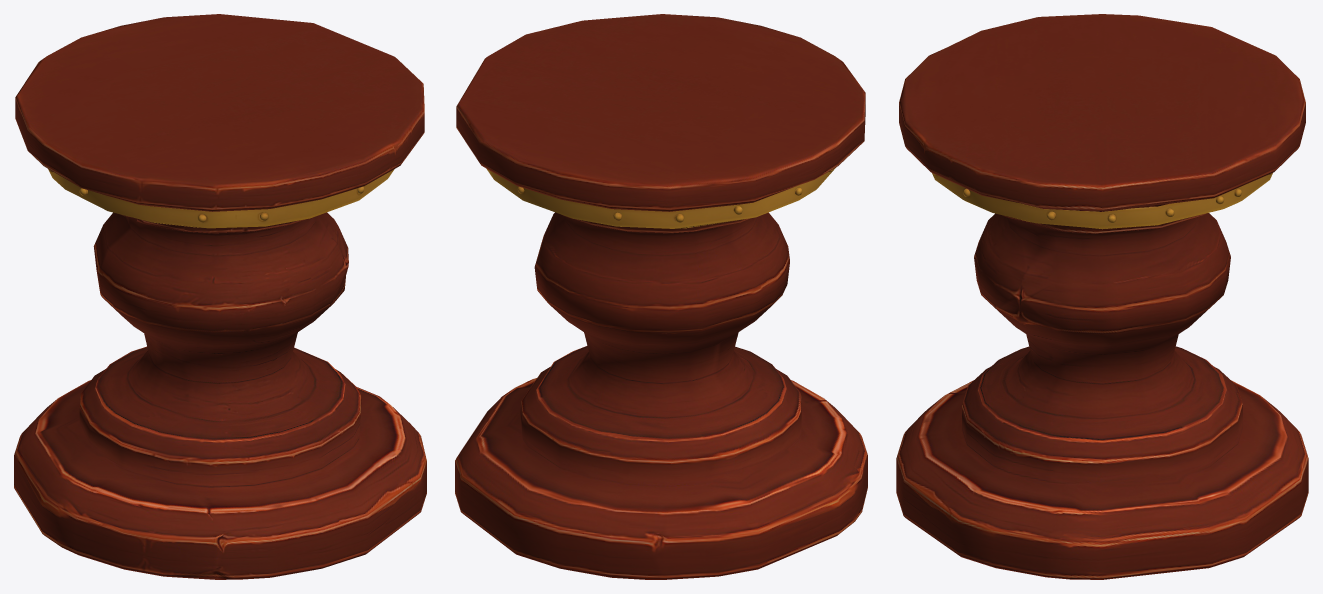
The model's file is bowl_stand.glb.
The picture shows the model from 3 angles, left to right: view 1: azimuth 30°, elevation 25°; view 2: azimuth 150°, elevation 25°; view 3: azimuth 270°, elevation 25°; orthographic projection.
Parts seen in each view (by area): view 1: tripo_node_fe28c26f-91bb-4a17-ac00-e8c8f666ef9b; view 2: tripo_node_fe28c26f-91bb-4a17-ac00-e8c8f666ef9b; view 3: tripo_node_fe28c26f-91bb-4a17-ac00-e8c8f666ef9b.
Part boxes in pixels (x1,y1,x2,y2): tripo_node_fe28c26f-91bb-4a17-ac00-e8c8f666ef9b: (14,14,426,579); tripo_node_fe28c26f-91bb-4a17-ac00-e8c8f666ef9b: (455,14,867,579); tripo_node_fe28c26f-91bb-4a17-ac00-e8c8f666ef9b: (896,14,1308,579).
Size of the model in its own units: 0.9419 by 0.9995 by 0.9419.
Materials: 1 (1 with a texture image).
